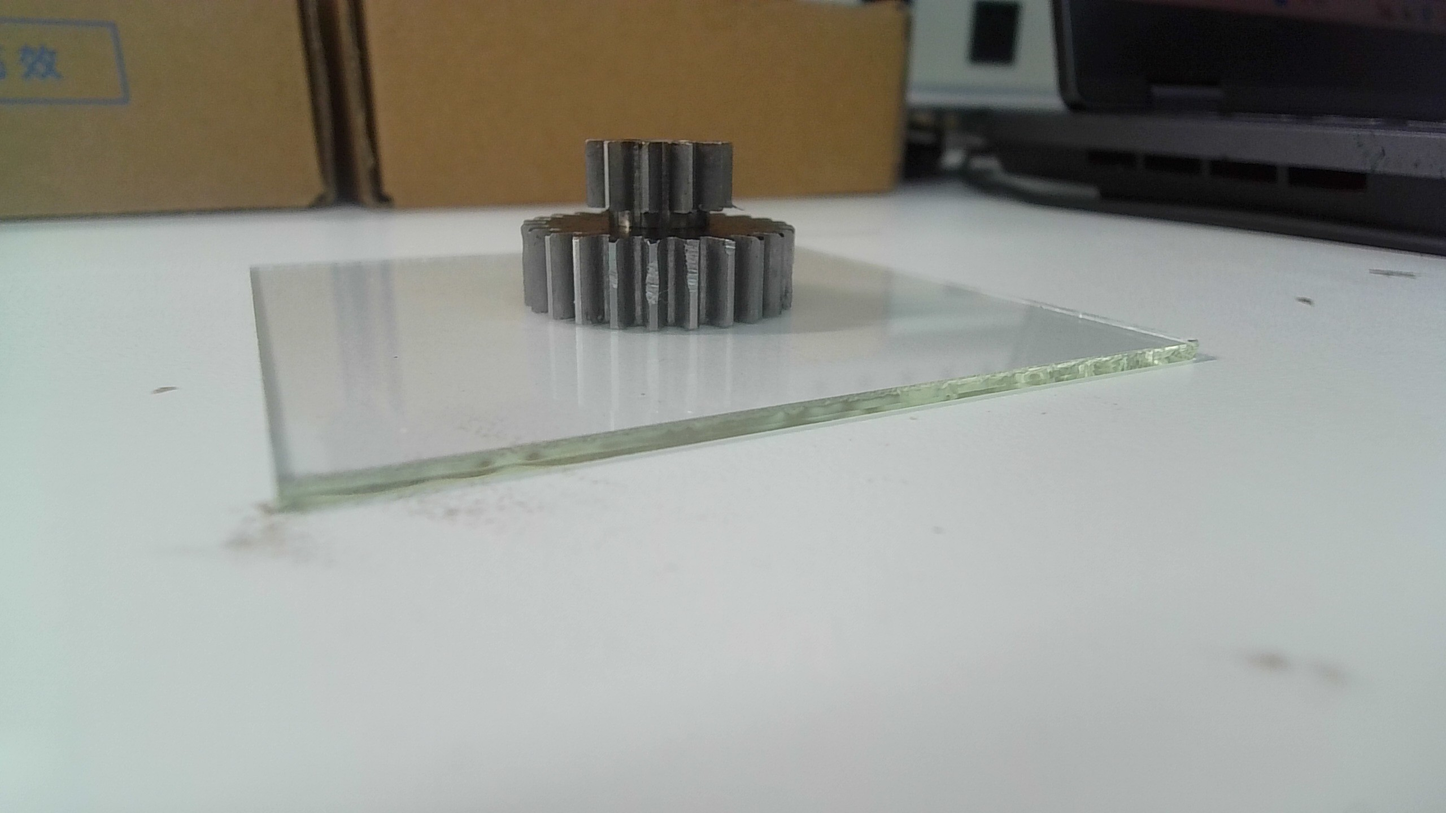gear: (515, 132, 800, 335)
